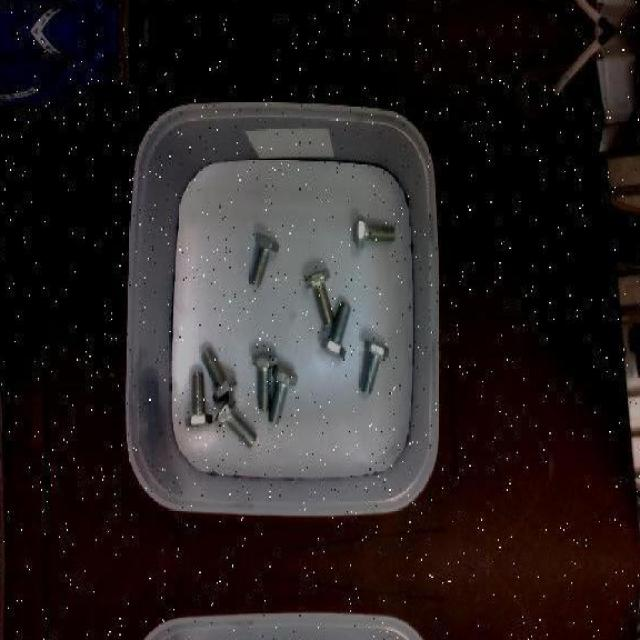screw: (214, 394, 258, 448), (201, 347, 238, 402), (268, 364, 298, 424), (321, 300, 352, 358), (304, 268, 334, 326), (250, 232, 281, 287), (360, 338, 390, 394), (184, 372, 213, 428), (252, 352, 279, 410), (356, 214, 396, 248)
